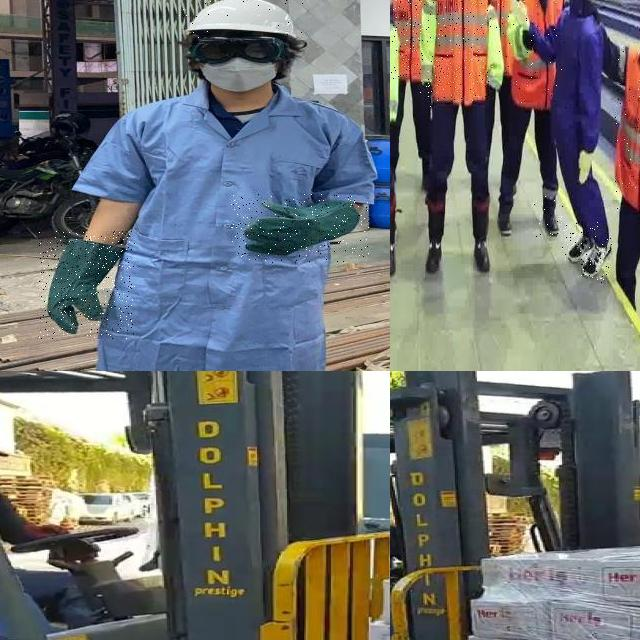BOOTS: (582, 233, 614, 283), (533, 196, 566, 242), (560, 222, 598, 260)
GLASS: (192, 32, 284, 63)
GLOVE: (49, 238, 120, 336), (244, 203, 344, 257)
HELMET: (179, 0, 303, 40)
VEST: (430, 0, 490, 104), (514, 0, 566, 111), (615, 46, 640, 218), (391, 0, 431, 79), (489, 0, 519, 74)
